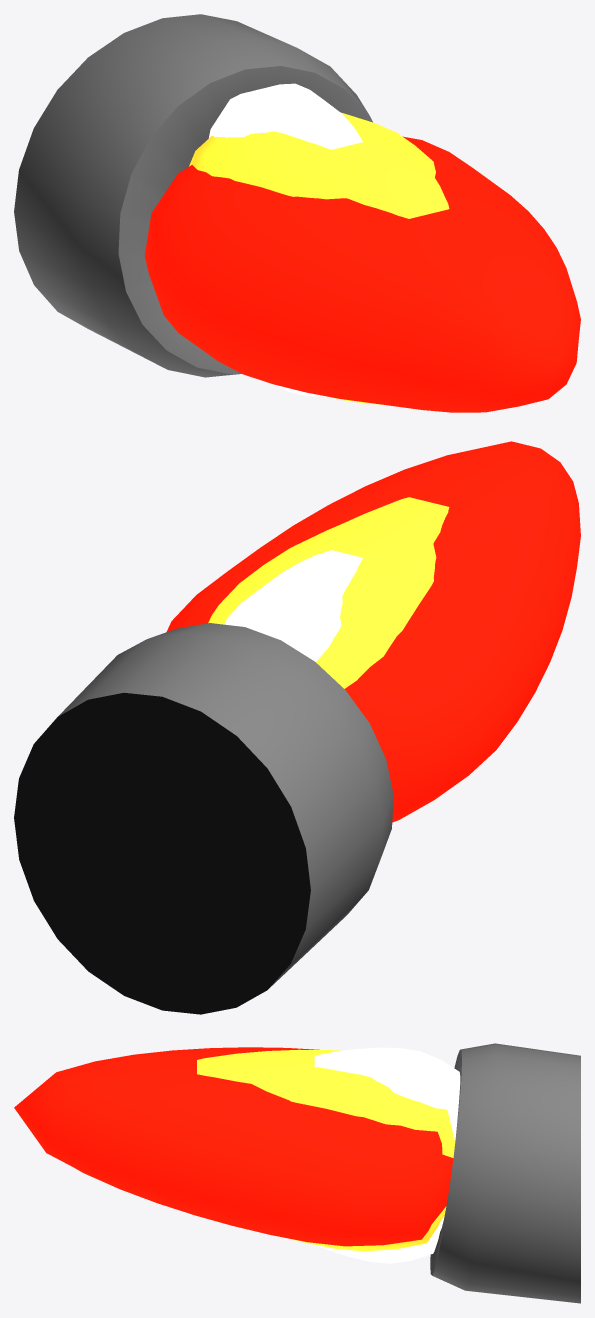
Rendered from gun_silo_121.glb.
The picture shows the model from 3 angles, top to bottom: view 1: azimuth 30°, elevation 25°; view 2: azimuth 150°, elevation 25°; view 3: azimuth 270°, elevation 25°; orthographic projection. The views are drawn at different scales.
Visible parts, largest first — view 1: flame0.001, barrel.001, flame1.001, flame2.001; view 2: barrel.001, flame0.001, flame1.001, flame2.001; view 3: flame0.001, barrel.001, flame1.001, flame2.001.
Part boxes in pixels (x1,y1,x2,y2): flame0.001: (144, 136, 580, 412); barrel.001: (14, 14, 372, 377); flame1.001: (189, 112, 449, 404); flame2.001: (208, 83, 362, 396); barrel.001: (14, 623, 393, 1014); flame0.001: (166, 441, 580, 822); flame1.001: (208, 497, 449, 688); flame2.001: (224, 550, 362, 661); flame0.001: (14, 1047, 453, 1246); barrel.001: (430, 1043, 580, 1303); flame1.001: (197, 1049, 455, 1251); flame2.001: (314, 1047, 460, 1263).
Bounding box in the file's own units: 4.97 × 4.93 × 10.65.
